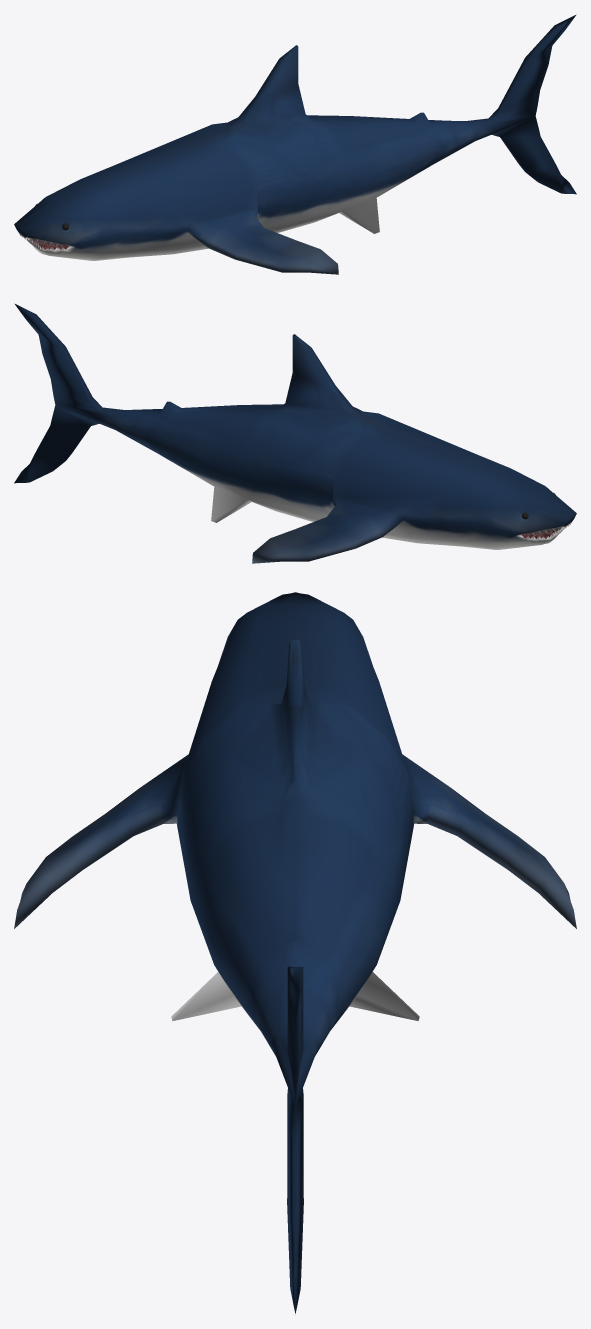
File: shark.fbx
3 renders of one model, top to bottom at view 1: azimuth 30°, elevation 25°; view 2: azimuth 150°, elevation 25°; view 3: azimuth 270°, elevation 25°, orthographic. The views are drawn at different scales.
Parts seen in each view (by area): view 1: Cylinder; view 2: Cylinder; view 3: Cylinder.
Boxes of the visible parts, x1,y1,x2,y2 form: Cylinder: (14, 14, 576, 274); Cylinder: (14, 303, 576, 563); Cylinder: (14, 592, 576, 1314).
Bounding box in the file's own units: 949 × 351 × 433.
2 materials, 1 textured.
